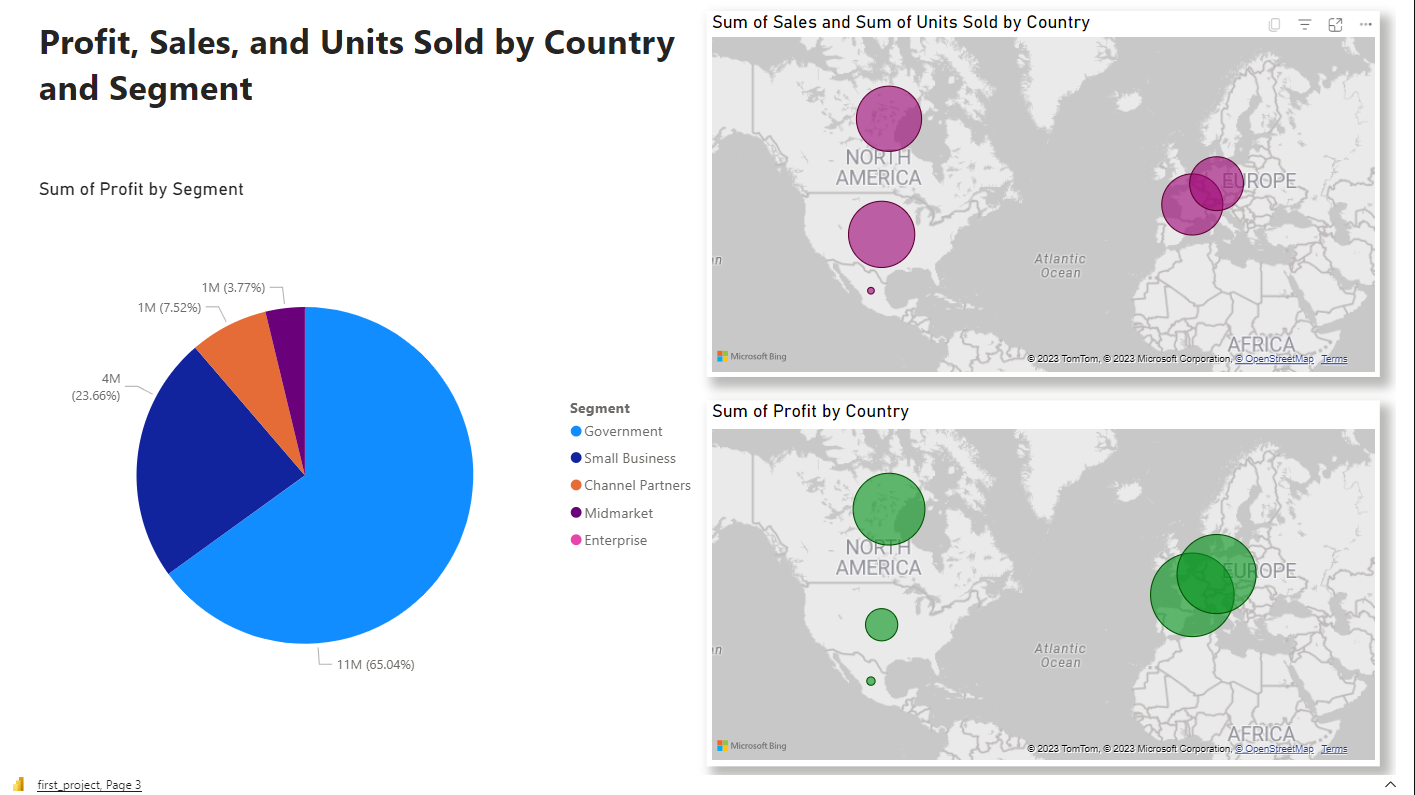

The dashboard page shown, as its layout file describes it:
{"tool":"powerbi","page":{"name":"Page 3","canvas":[1280,720],"ordinal":2},"visuals":[{"type":"azureMap","fields":{"Size":["Sum(financials. Sales)"],"Category":["financials.Country"]},"box":[640,10,625.6,340],"z":0},{"type":"azureMap","fields":{"Category":["financials.Country"],"Size":["Sum(financials.Profit)"]},"box":[640,372.2,625.6,340],"z":1000},{"type":"pieChart","fields":{"Y":["Sum(financials.Profit)"],"Category":["financials.Segment"]},"box":[14.4,165.6,625.6,532.2],"z":2000},{"type":"textbox","box":[14.4,10,604.4,115.6],"z":3000}]}

Visuals, with their boxes in screenshot pixels (x1, y1, x2, y2), scaled from the page's 1280x720 canvas onto the 1415x795 screenshot:
azureMap - Sum(financials. Sales) x financials.Country: x1=708 y1=11 x2=1399 y2=386
azureMap - financials.Country x Sum(financials.Profit): x1=708 y1=411 x2=1399 y2=786
pieChart - Sum(financials.Profit) x financials.Segment: x1=16 y1=183 x2=708 y2=770
textbox: x1=16 y1=11 x2=684 y2=139
